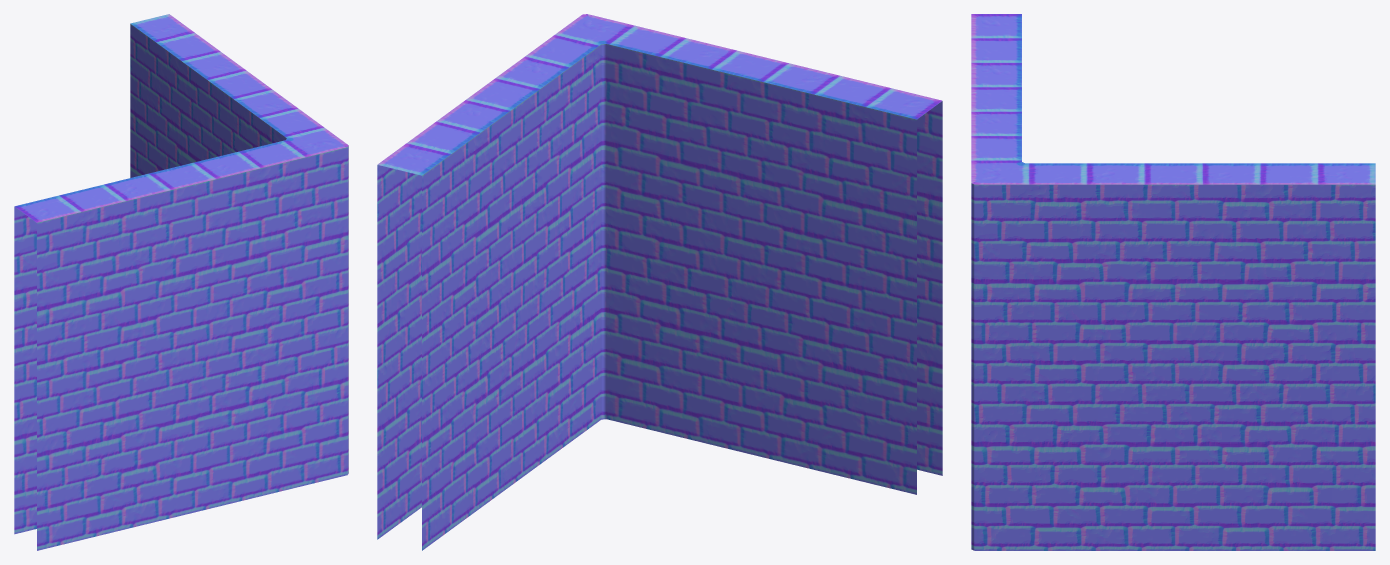
Rendered from sm_wall_corner_01.fbx.
The picture shows the model from 3 angles, left to right: view 1: azimuth 30°, elevation 25°; view 2: azimuth 150°, elevation 25°; view 3: azimuth 270°, elevation 25°; orthographic projection. The views are drawn at different scales.
Visible parts, largest first — view 1: sm_wall_corner_01; view 2: sm_wall_corner_01; view 3: sm_wall_corner_01.
Part boxes in pixels (x1=…): sm_wall_corner_01: x1=14, y1=14, x2=348, y2=550; sm_wall_corner_01: x1=377, y1=14, x2=942, y2=550; sm_wall_corner_01: x1=971, y1=14, x2=1375, y2=550.
Bounding box in the file's own units: 400 × 400 × 400.
Materials: 1 (1 with a texture image).
